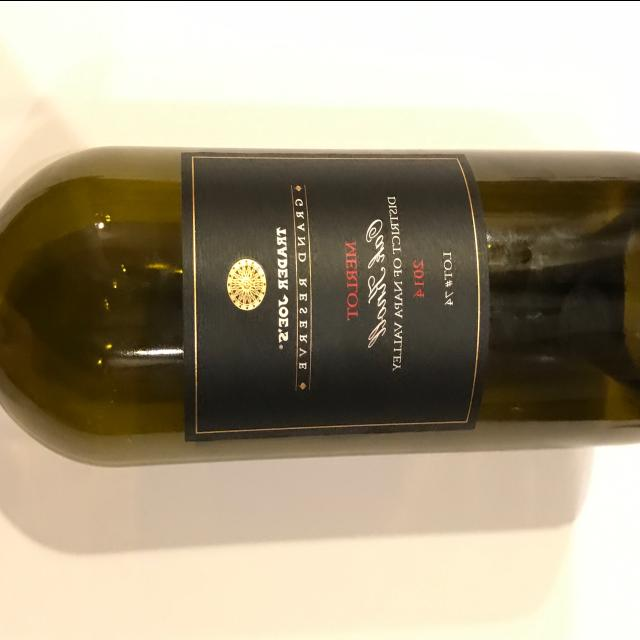glass: (0, 116, 640, 496)
